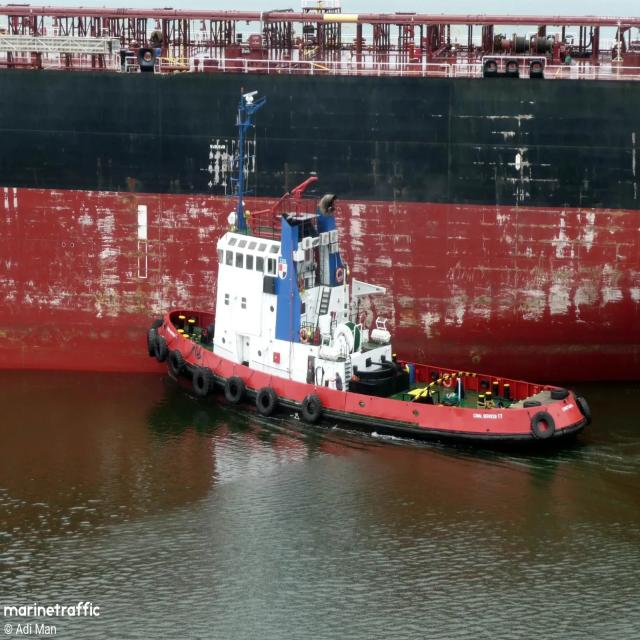Tug: (148, 91, 590, 442)
